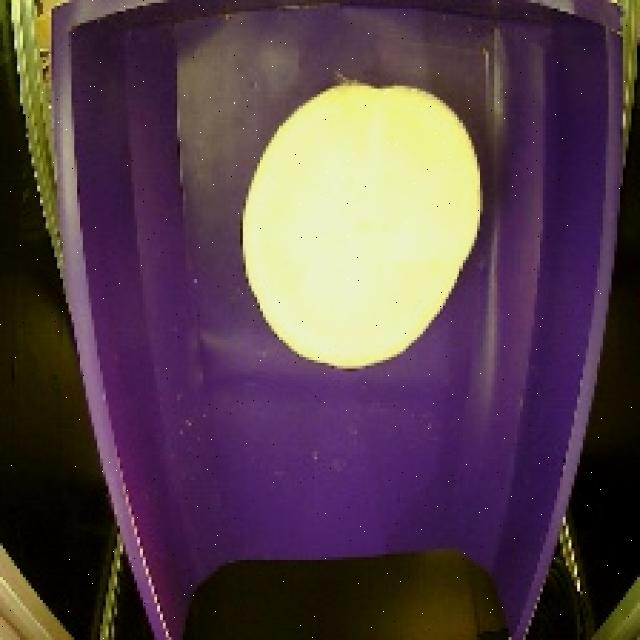white_radish: (233, 69, 492, 376)
